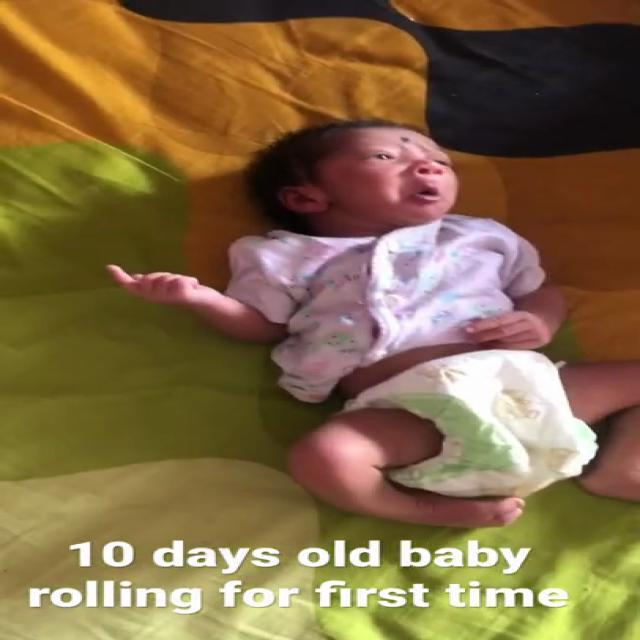baby: (82, 120, 640, 528)
